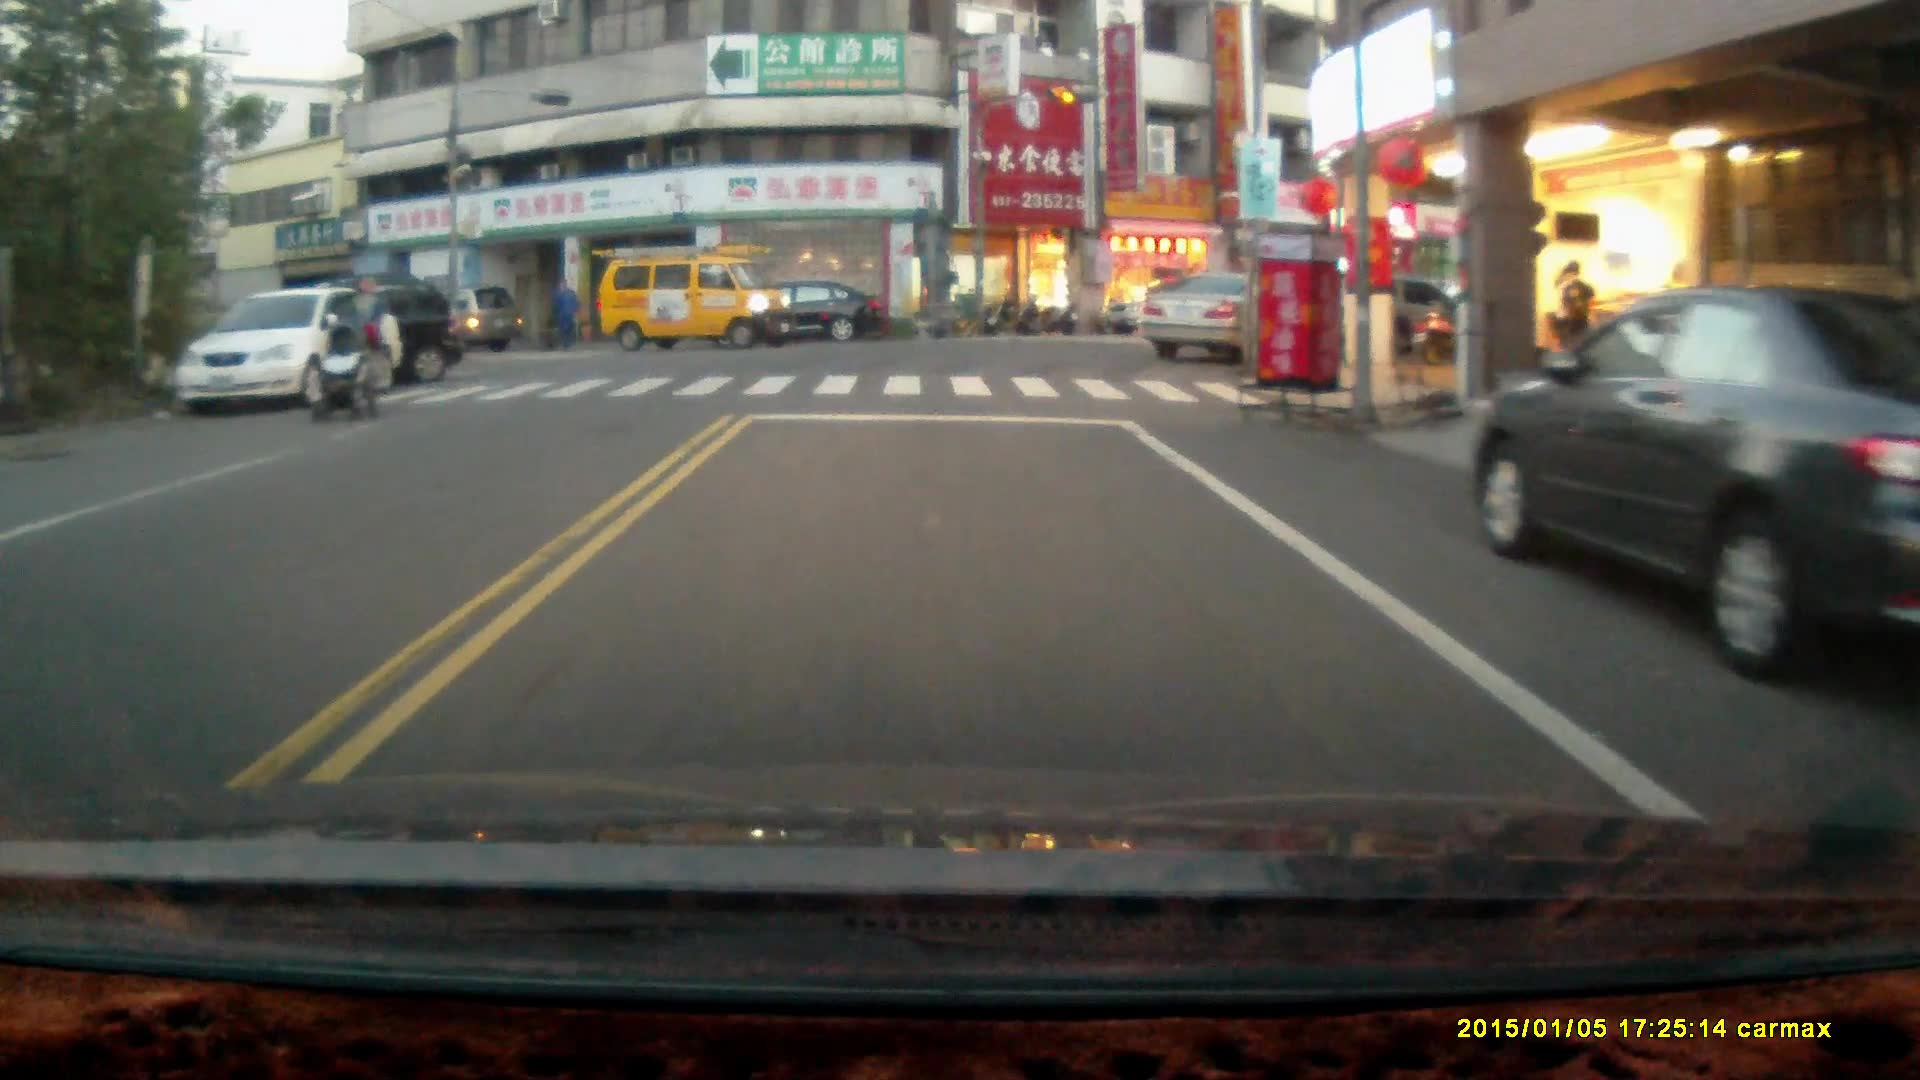pedestrian: (340, 270, 385, 403), (1560, 261, 1594, 384), (549, 276, 575, 349)
rider: (305, 318, 378, 426)
vehicle: (1471, 298, 1920, 698), (172, 289, 398, 417), (247, 270, 462, 384), (598, 245, 794, 351), (721, 275, 886, 347), (1142, 278, 1273, 368), (398, 282, 531, 362)
